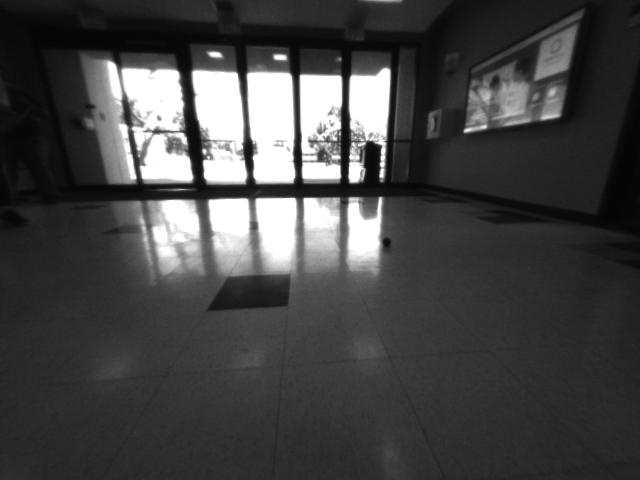dogtoy: (375, 229, 402, 252)
